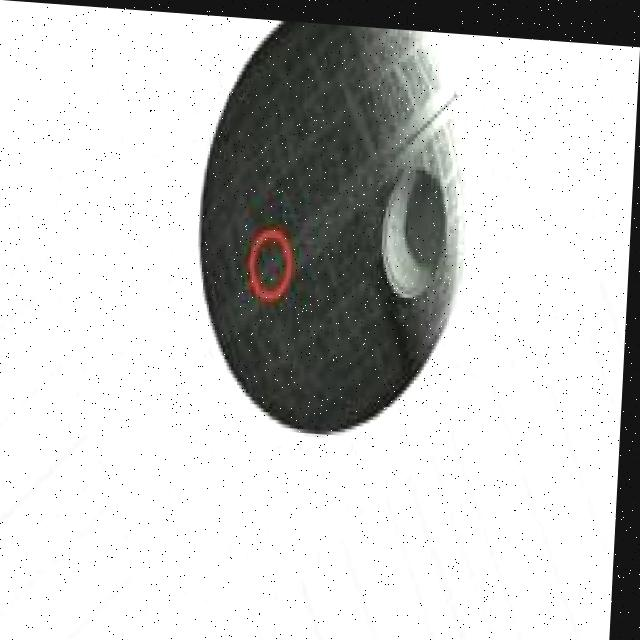deathstar: (195, 15, 474, 433)
